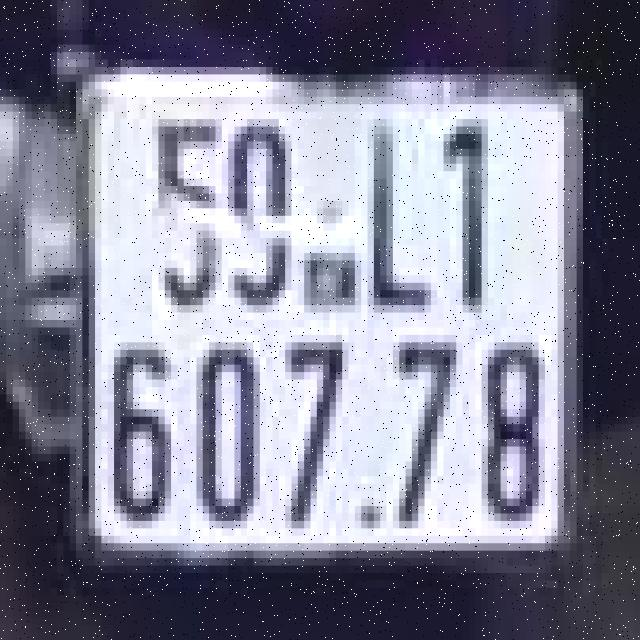0: (193, 327, 270, 536), (228, 116, 285, 316)
1: (443, 112, 507, 320)
5: (143, 104, 225, 320)
6: (98, 335, 174, 536)
7: (387, 324, 462, 532), (285, 327, 349, 536)
8: (469, 331, 551, 540)
L: (361, 104, 437, 320)
